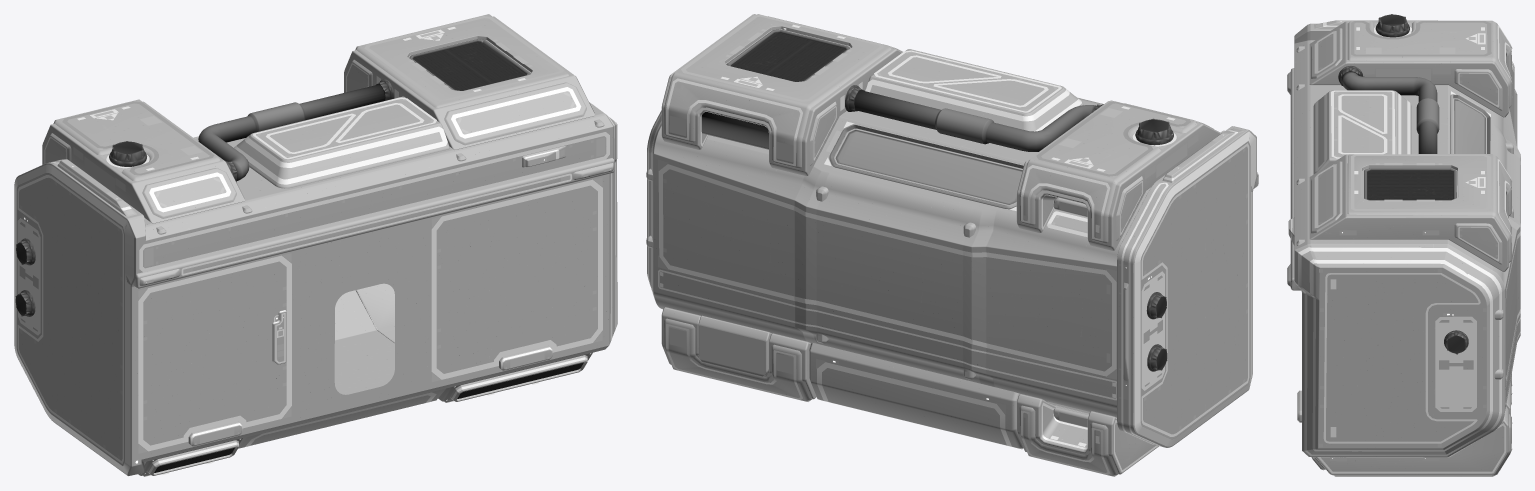
Rendered from SM_LivingModule_3_Merged.fbx.
The picture shows the model from 3 angles, left to right: view 1: azimuth 30°, elevation 25°; view 2: azimuth 150°, elevation 25°; view 3: azimuth 270°, elevation 25°; orthographic projection. The views are drawn at different scales.
Parts seen in each view (by area): view 1: SM_LivingModule_3_Merged_LOD0; view 2: SM_LivingModule_3_Merged_LOD0; view 3: SM_LivingModule_3_Merged_LOD0.
Part boxes in pixels (x1=…): SM_LivingModule_3_Merged_LOD0: x1=14, y1=14, x2=617, y2=476; SM_LivingModule_3_Merged_LOD0: x1=646, y1=14, x2=1258, y2=476; SM_LivingModule_3_Merged_LOD0: x1=1287, y1=14, x2=1520, y2=476.
Bounding box in the file's own units: 1352 × 590 × 761.
